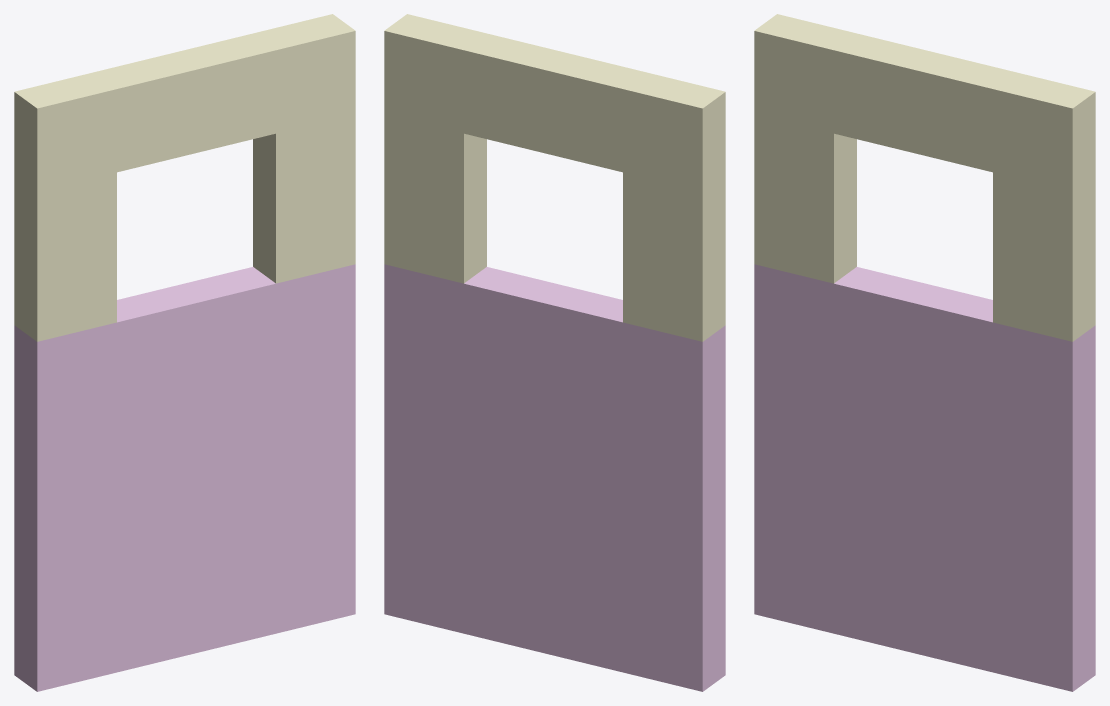
The model's file is Wall_C_Window_Small.glb.
3 views of the same model, side by side, from view 1: azimuth 30°, elevation 25°; view 2: azimuth 150°, elevation 25°; view 3: azimuth 330°, elevation 25° (orthographic).
Parts seen in each view (by area): view 1: Wall C Window Small; view 2: Wall C Window Small; view 3: Wall C Window Small.
Boxes of the visible parts, x1=… form: Wall C Window Small: x1=14, y1=14, x2=355, y2=691; Wall C Window Small: x1=384, y1=14, x2=725, y2=691; Wall C Window Small: x1=754, y1=14, x2=1095, y2=691.
Bounding box in the file's own units: 2 × 3.5 × 0.25.
